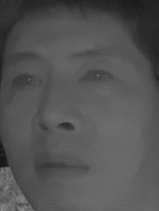eye: (78, 65, 115, 88), (10, 71, 45, 89)
mouth: (31, 145, 90, 187)
